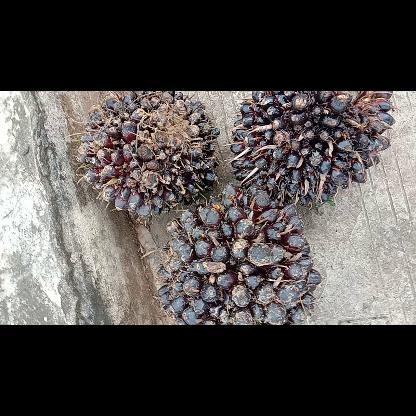TBS mentah: (152, 182, 324, 324), (73, 90, 223, 222), (228, 91, 398, 207)
